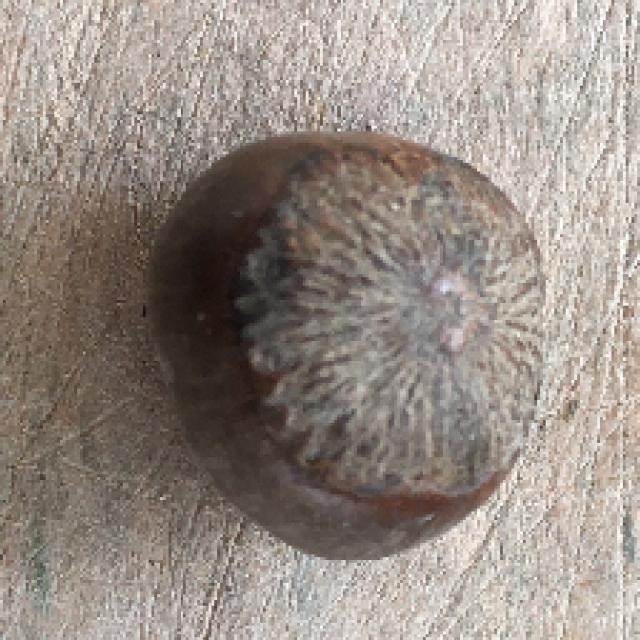damagedHazelnut: (154, 128, 554, 562)
